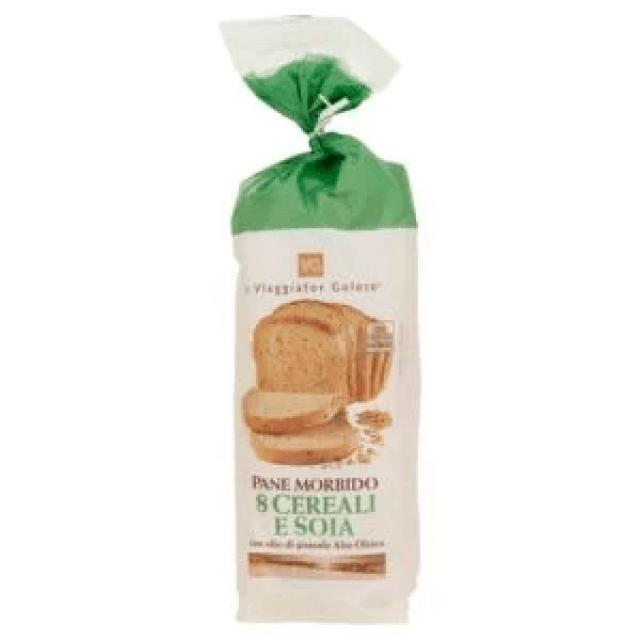Bread loaf: (222, 17, 418, 623)
